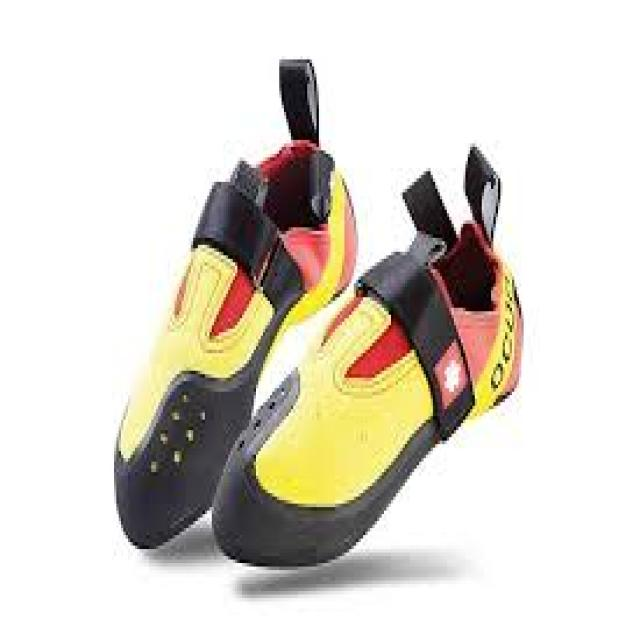climbing-shoes: (212, 144, 526, 568), (113, 58, 360, 551)
